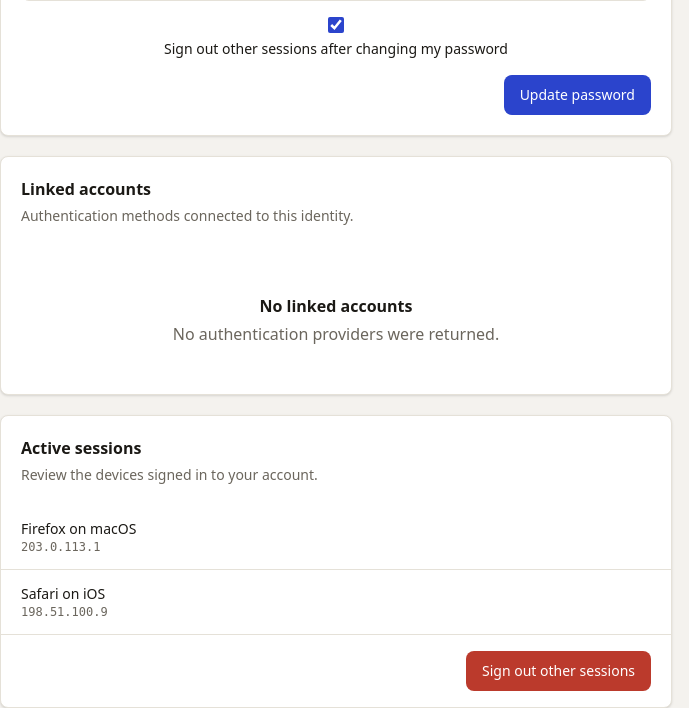
SecurityScreen (AC3) › surfaces an error when revocation fails
(page scrolled)
Expected: the text "Firefox on macOS" is shown, 21,519 -> 136,539
Step 1. Click the button "Sign out other sessions" → coordinates (558, 671), box 466,651 -> 651,691
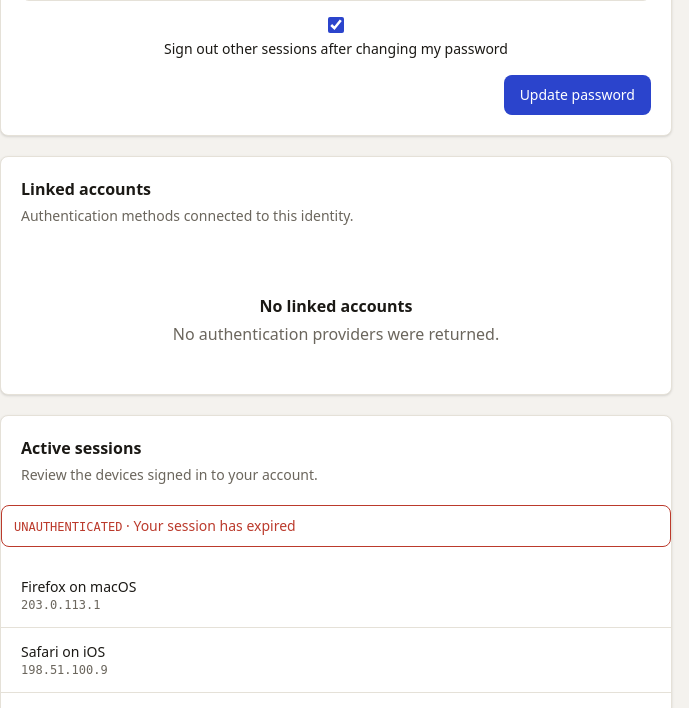
Expected: the message shows "UNAUTHENTICATED", 14,520 -> 122,534
